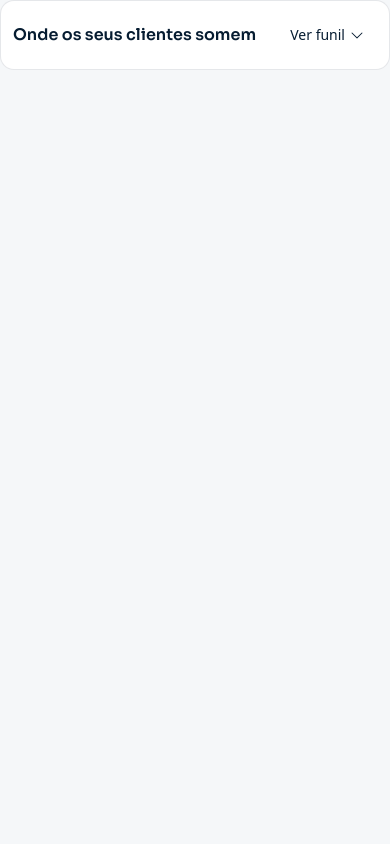
Test: FilaFunil › no celular o painel abre fechado e o botão 'Ver funil' o abre
The width and height of the screenshot is (390, 844).
Click the button "Ver funil" at (328, 35), box [278,13,377,57]
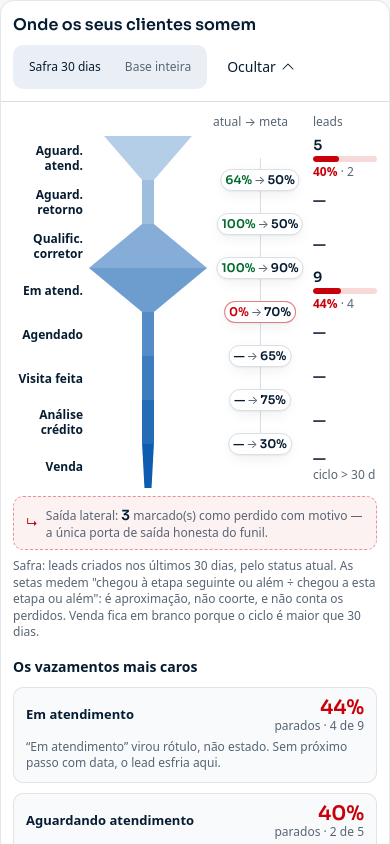
Expected: the button "Ocultar" is expanded, [215,45,308,89]
